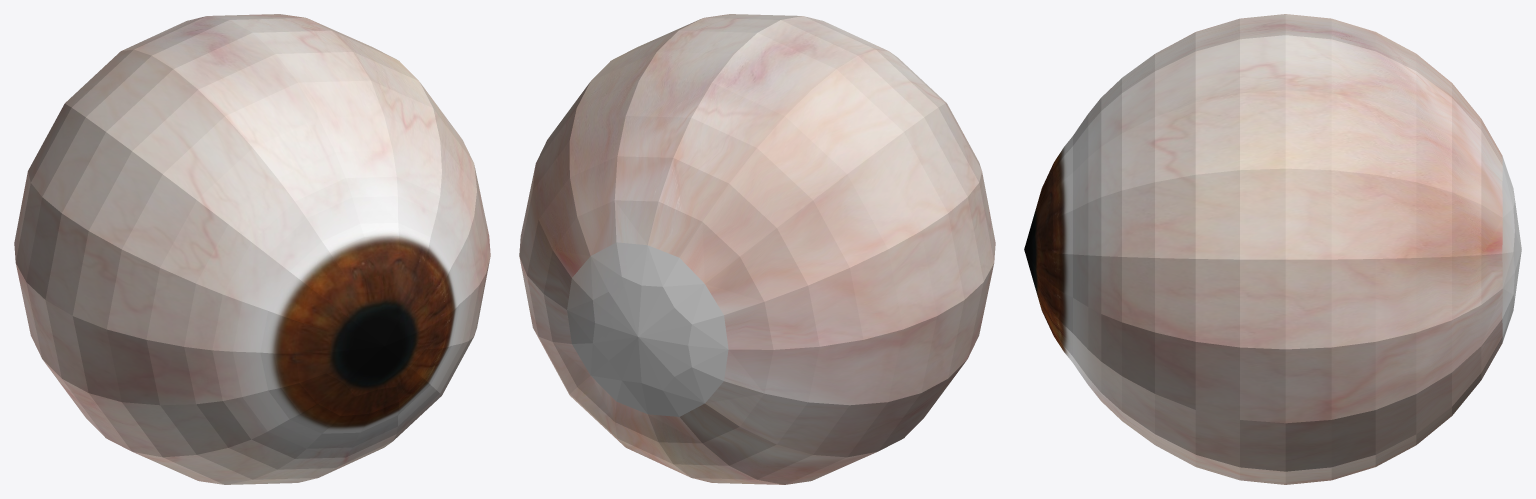
The model's file is Bille.obj.
3 views of the same model, side by side, from view 1: azimuth 30°, elevation 25°; view 2: azimuth 150°, elevation 25°; view 3: azimuth 270°, elevation 25° (orthographic).
Parts seen in each view (by area): view 1: Eyeball_Eye; view 2: Eyeball_Eye; view 3: Eyeball_Eye.
Part boxes in pixels (x1=…): Eyeball_Eye: x1=14, y1=14, x2=490, y2=484; Eyeball_Eye: x1=519, y1=14, x2=995, y2=484; Eyeball_Eye: x1=1024, y1=14, x2=1521, y2=484.
Size of the model in its own units: 19.39 by 19.39 by 20.41.
